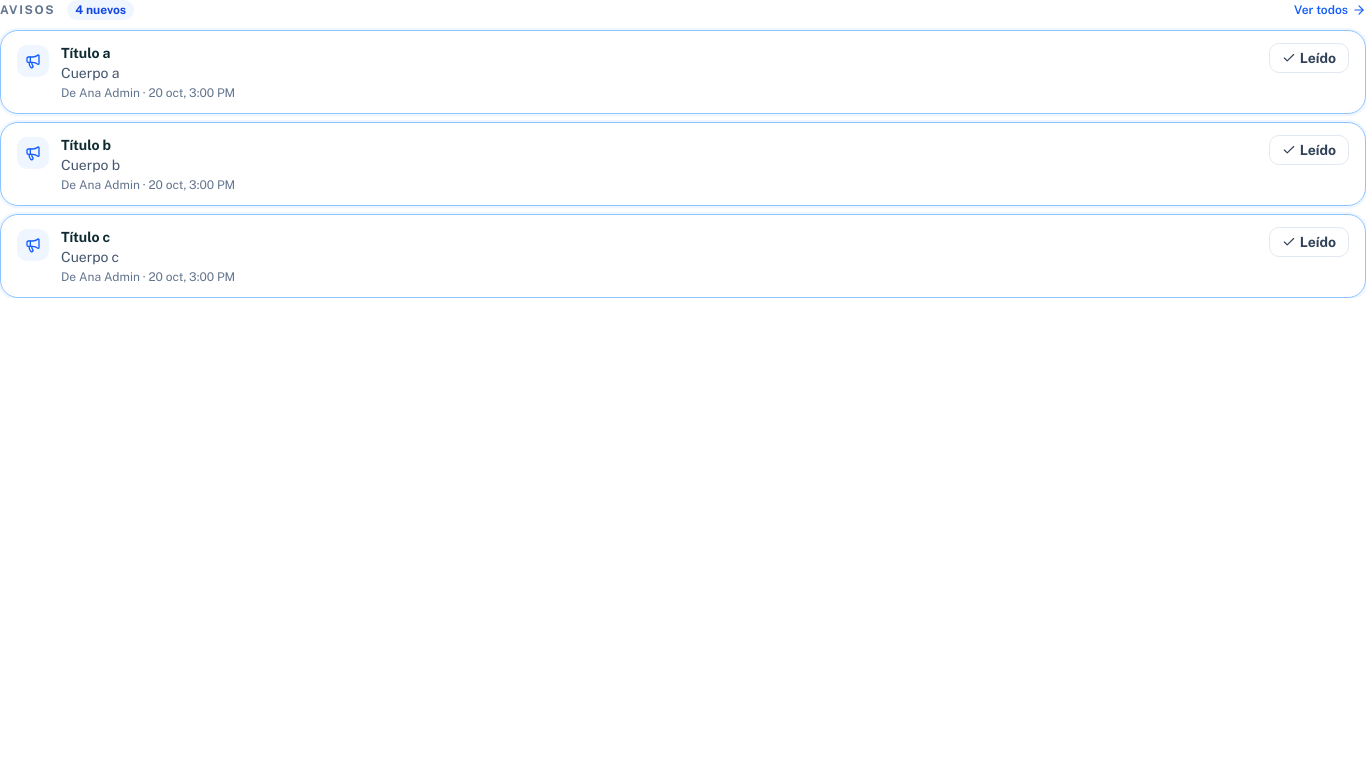
Avisos del Inicio (lo que publica el administrador) › muestra los tres más recientes y «Ver todos» abre la ventana de avisos
This screenshot has width=1366, height=768.
Expected: the number of list items is 3, [0,30,1365,114]; [0,122,1365,206]; [0,214,1365,298]
Click the button with aria-label "Ver todos los avisos". click: (1330, 10)
box: [1294,2,1365,18]
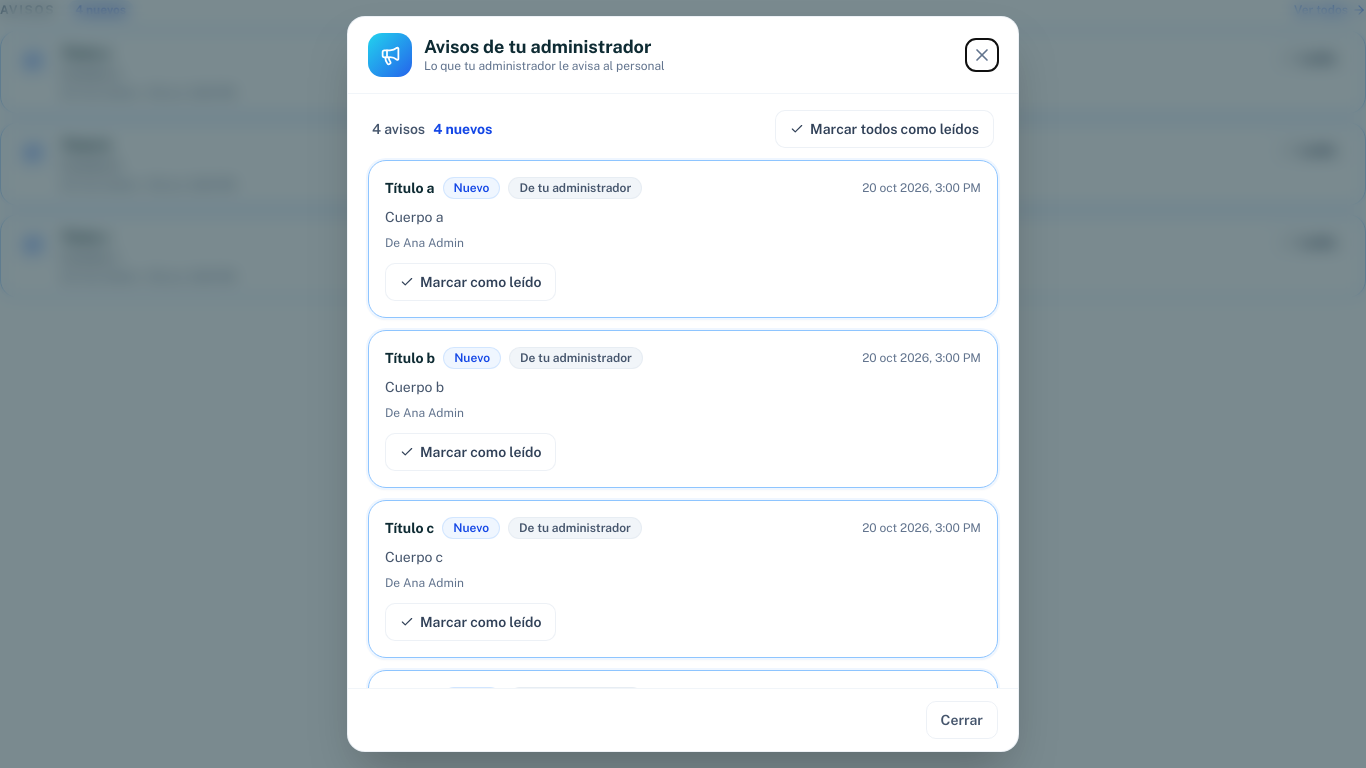
Result: the dialog "Avisos de tu administrador" is shown at [347,16,1019,752]
